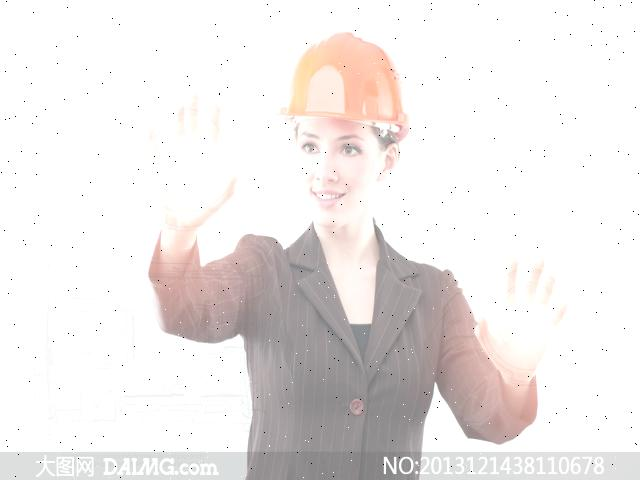Helmet: (270, 24, 413, 151)
